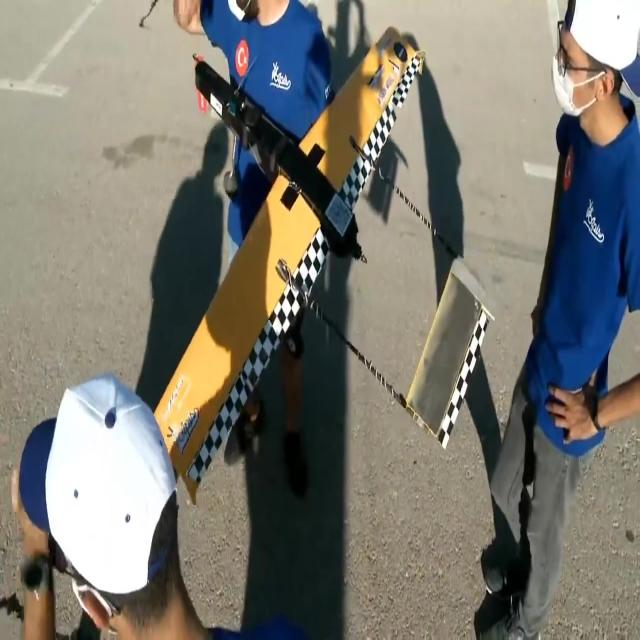iha: (149, 15, 497, 498)
